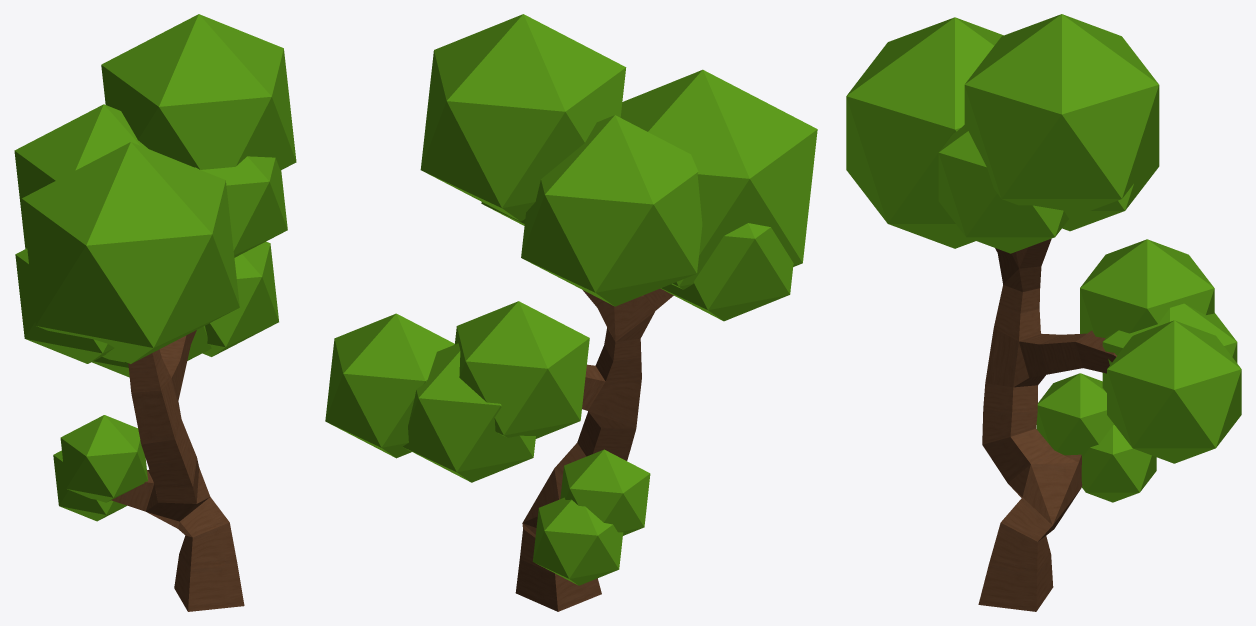
Rendered from RoundTree.fbx.
The picture shows the model from 3 angles, left to right: view 1: azimuth 30°, elevation 25°; view 2: azimuth 150°, elevation 25°; view 3: azimuth 270°, elevation 25°; orthographic projection. The views are drawn at different scales.
Parts seen in each view (by area): view 1: Tree; view 2: Tree; view 3: Tree.
Part boxes in pixels (x1,y1,x2,y2): Tree: (14,14,296,611); Tree: (325,14,817,611); Tree: (846,14,1241,611).
Bounding box in the file's own units: 1794 × 2846 × 1735.
